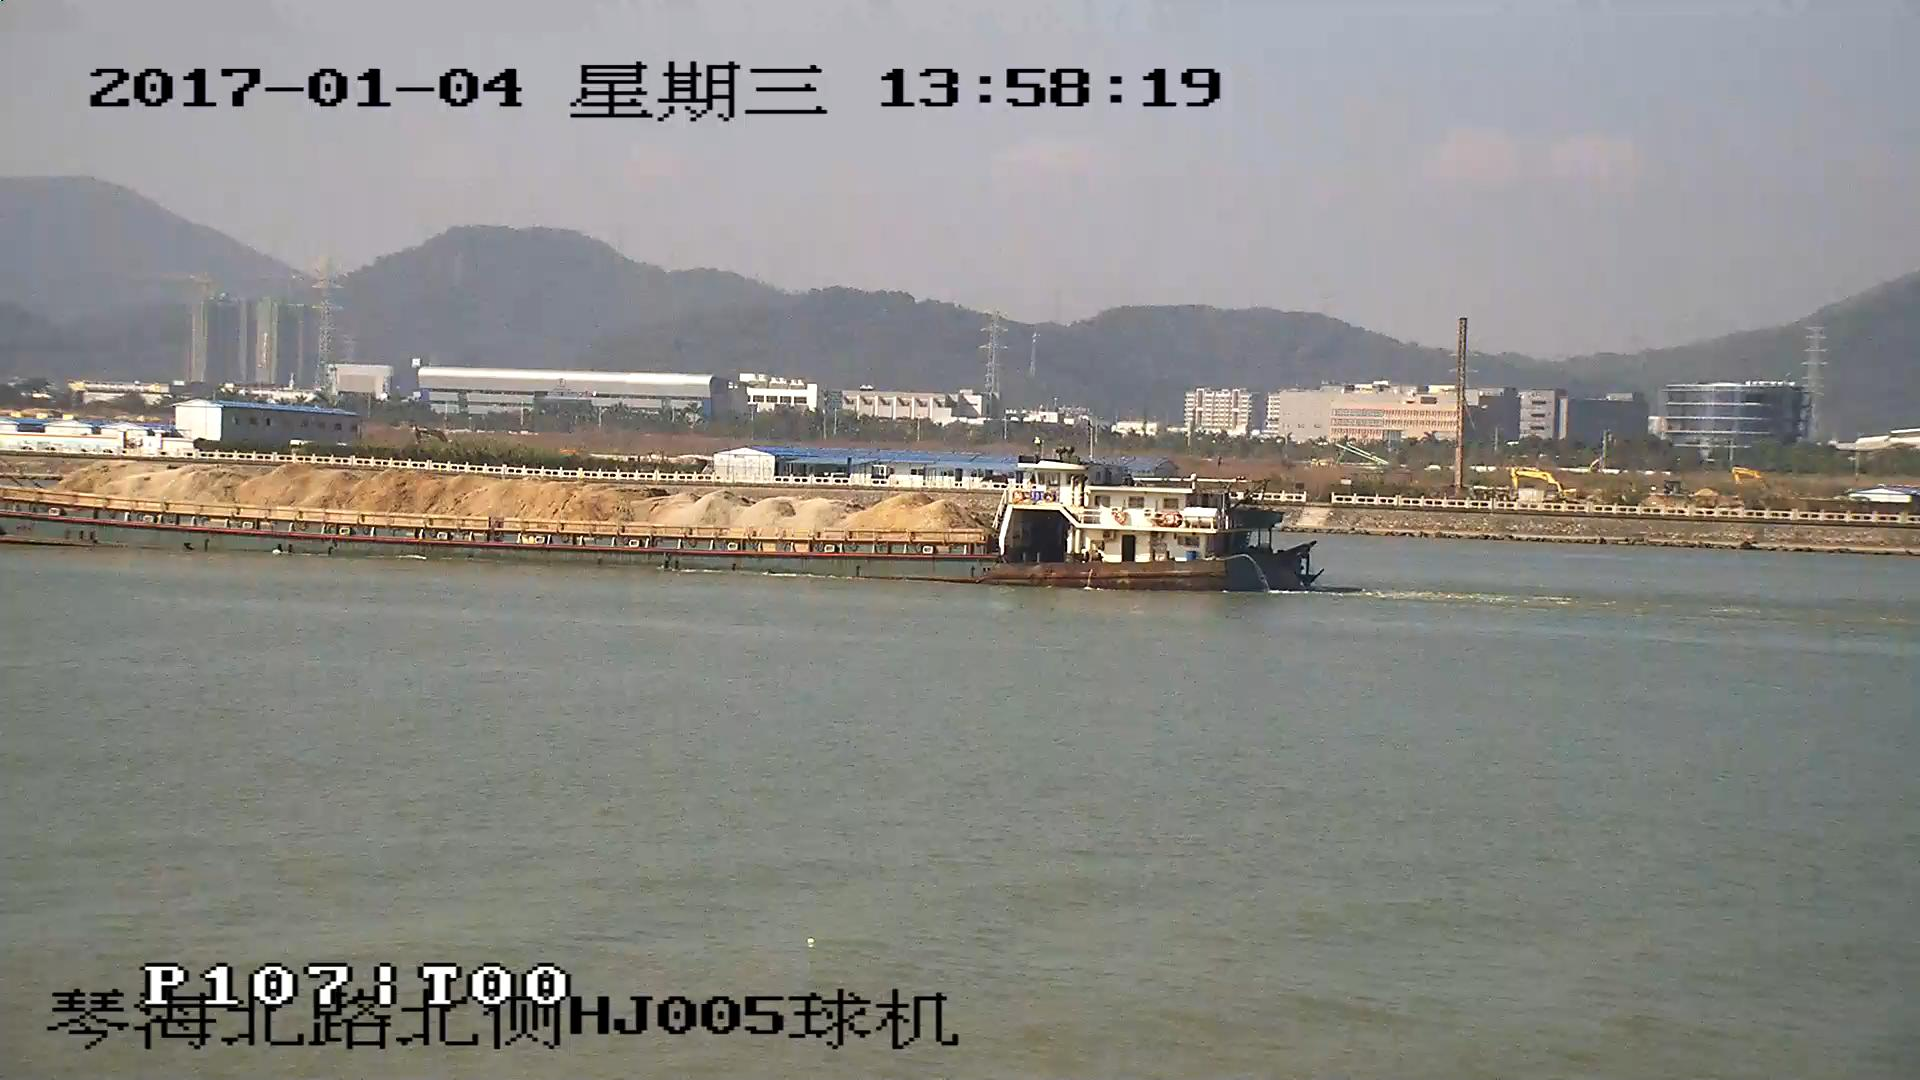ore carrier: (1, 456, 1322, 598)
